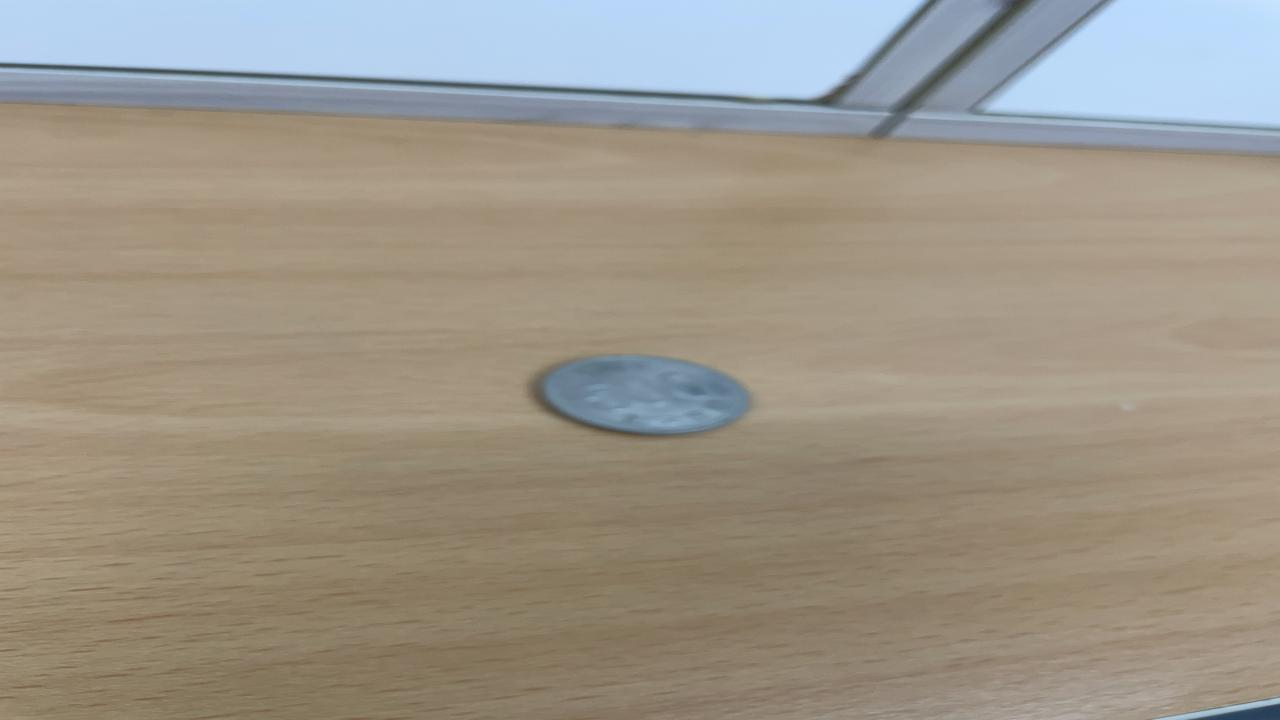coin: (532, 353, 756, 437)
